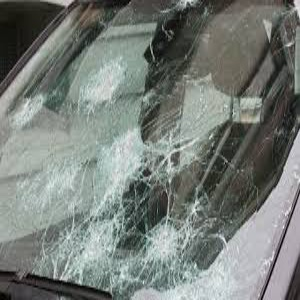front_windshield_glass: (23, 64, 266, 260)
